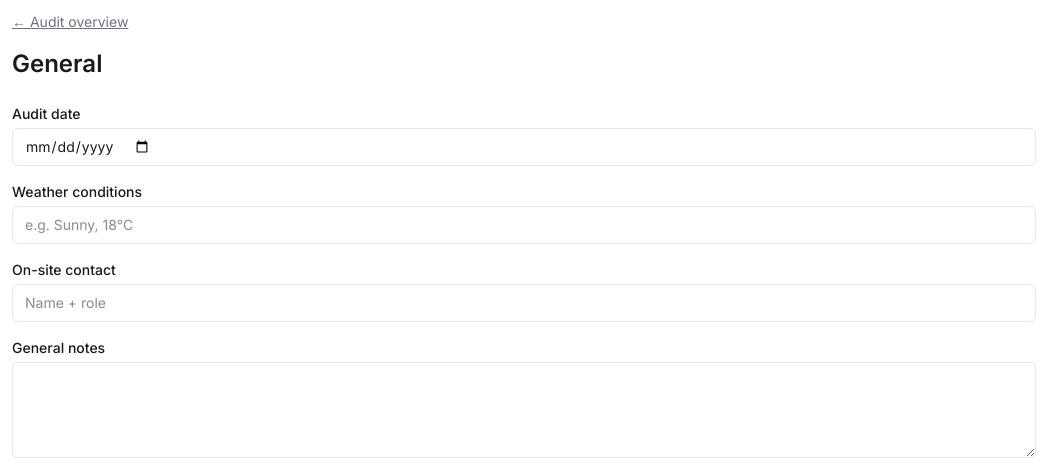
SectionEditPage — general section › shows Save failed — retrying when PATCH returns 500 (AC3)
Type "X" into the field with test id "general-weather". click: x=524, y=225
box: [12,206,1036,244]
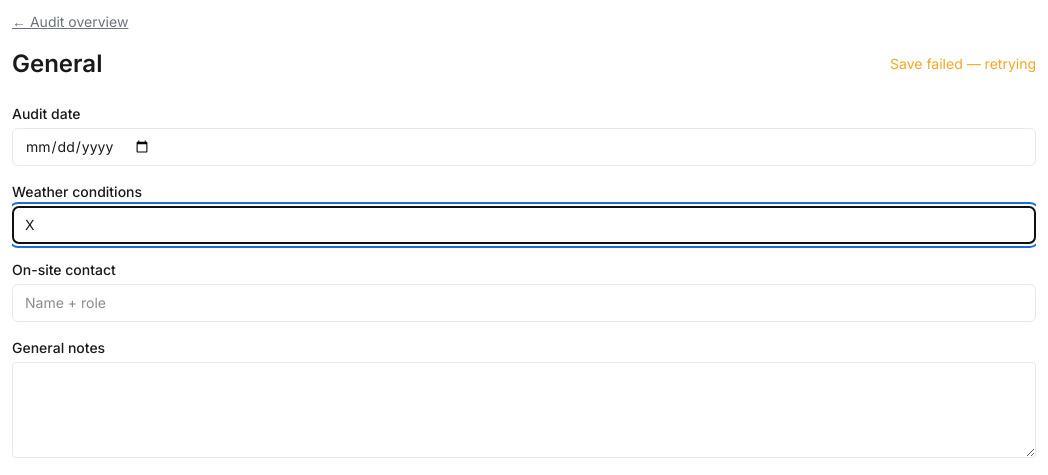
Expected: the text "Save failed — retrying" is shown, [890,55,1036,72]
